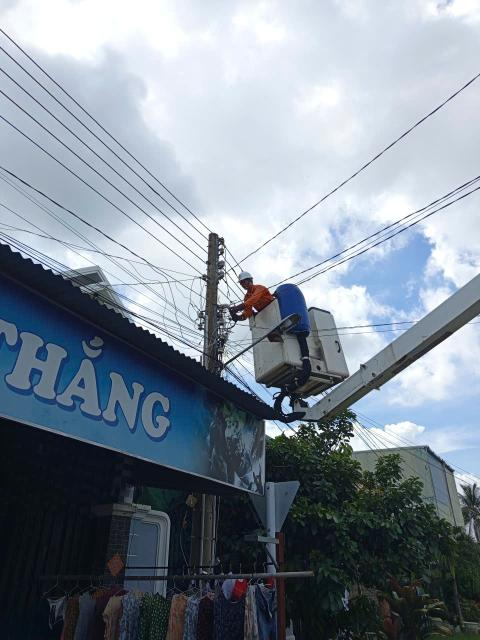gloves: (229, 313, 252, 325), (225, 302, 248, 311)
helmet: (232, 265, 258, 282)
